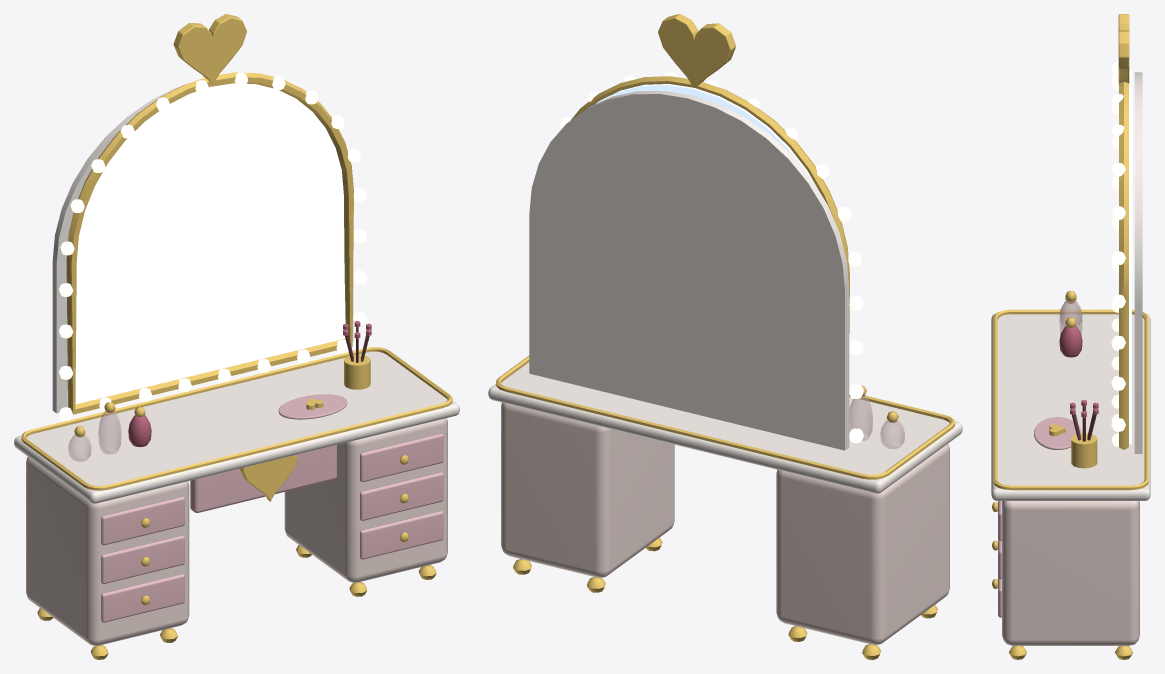
Rendered from vanity_hollywood.glb.
3 views of the same model, side by side, from view 1: azimuth 30°, elevation 25°; view 2: azimuth 150°, elevation 25°; view 3: azimuth 270°, elevation 25° (orthographic). The views are drawn at different scales.
Parts seen in each view (by area): view 1: vanity_hollywood; view 2: vanity_hollywood; view 3: vanity_hollywood.
Part boxes in pixels (x1,y1,x2,y2): vanity_hollywood: (14,14,459,659); vanity_hollywood: (488,14,962,659); vanity_hollywood: (991,14,1150,659).
Bounding box in the file's own units: 1.6 × 2.32 × 0.6.
